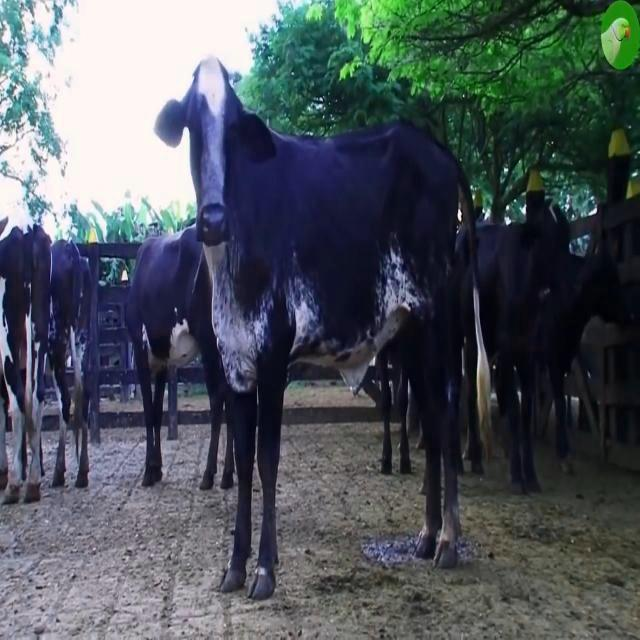cow: (156, 58, 471, 599)
